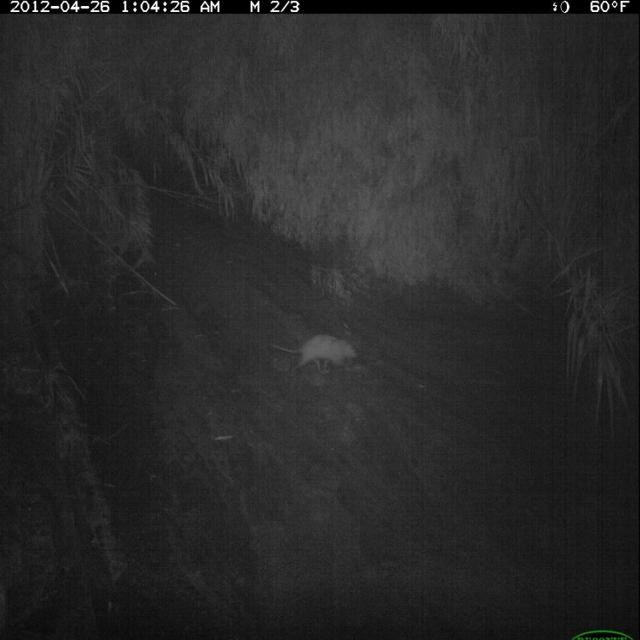opossum: (267, 331, 362, 378)
